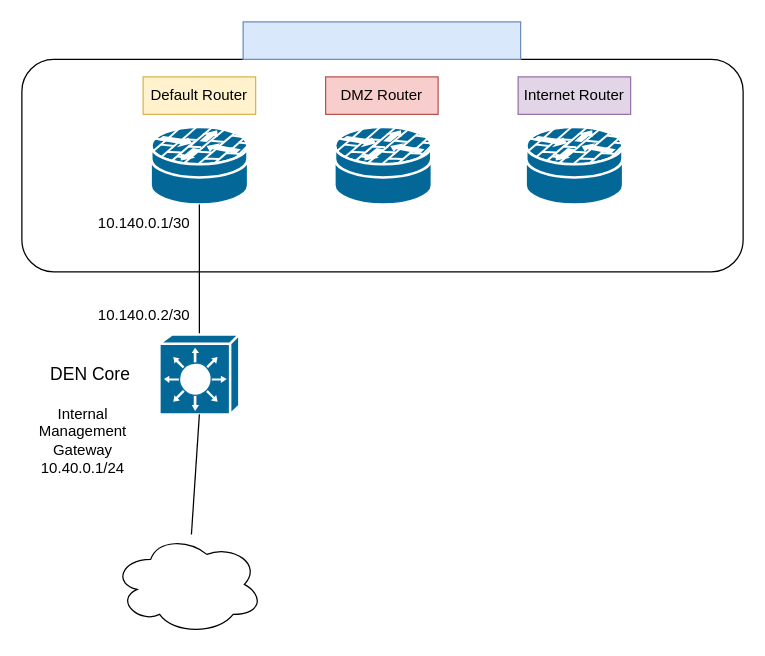
Some shapes in this 765 by 656 pixel diagram are drawn without their labels. Here are the shapes that lost their labels. From the top down, the centre of each, then its label:
At (x=381, y=40): "FW-DNDCSR-01".
At (x=187, y=583): "All Access Devices".
